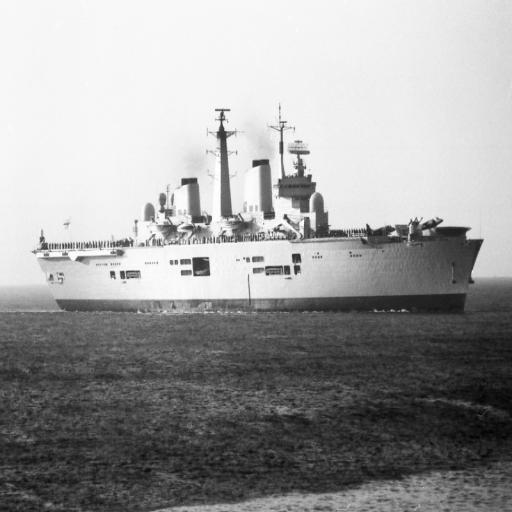Portanaves: (32, 100, 488, 320)
